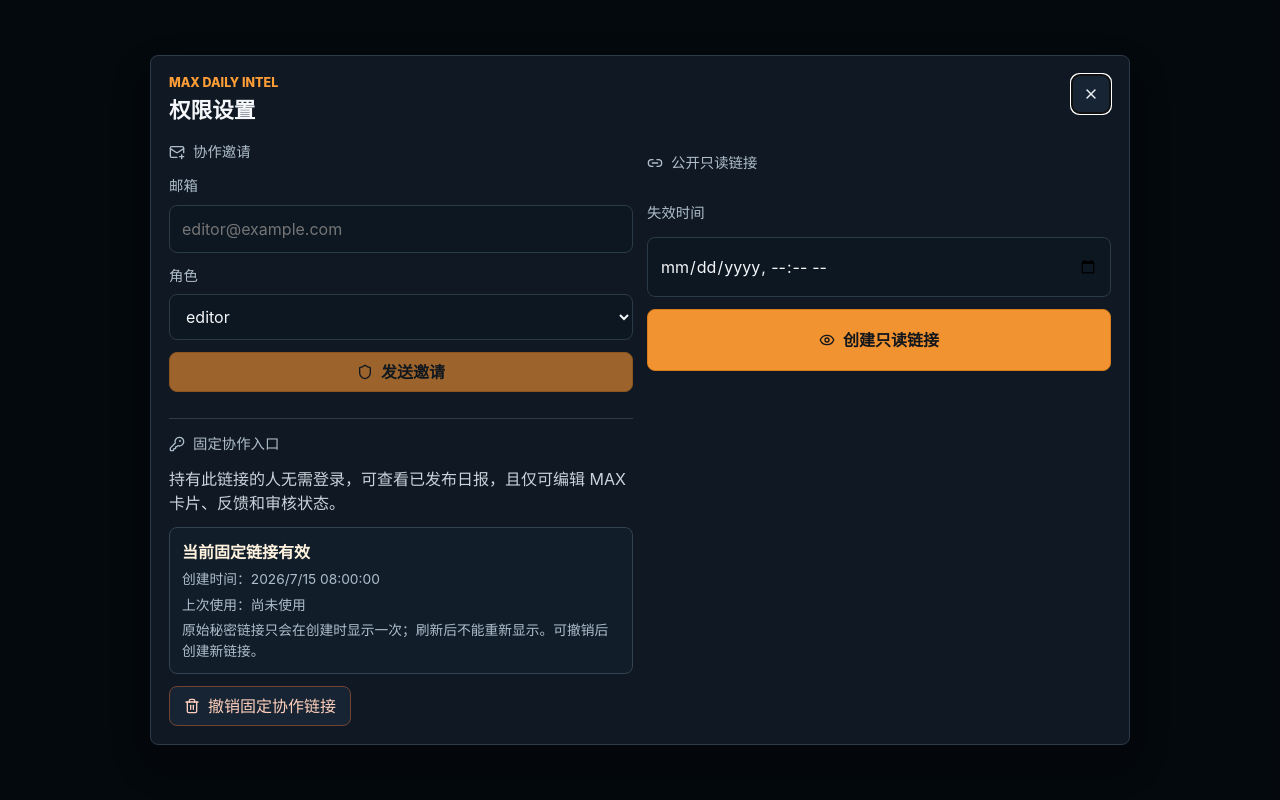
it: ShareDialog fixed collaboration link management › revokes the active link only after explicit confirmation
Click the button "撤销固定协作链接": [260, 706] box [169,686,351,726]
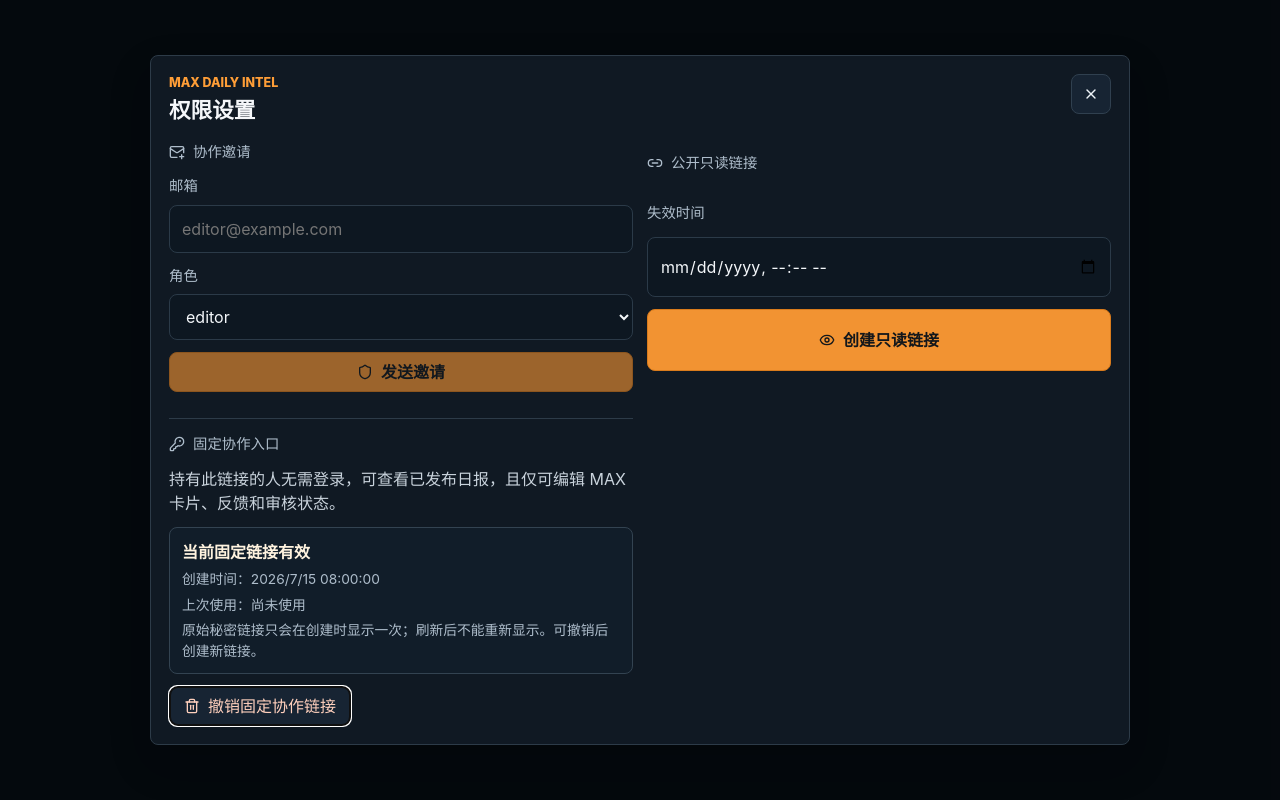
Click the button "撤销固定协作链接": [260, 706] box [169,686,351,726]
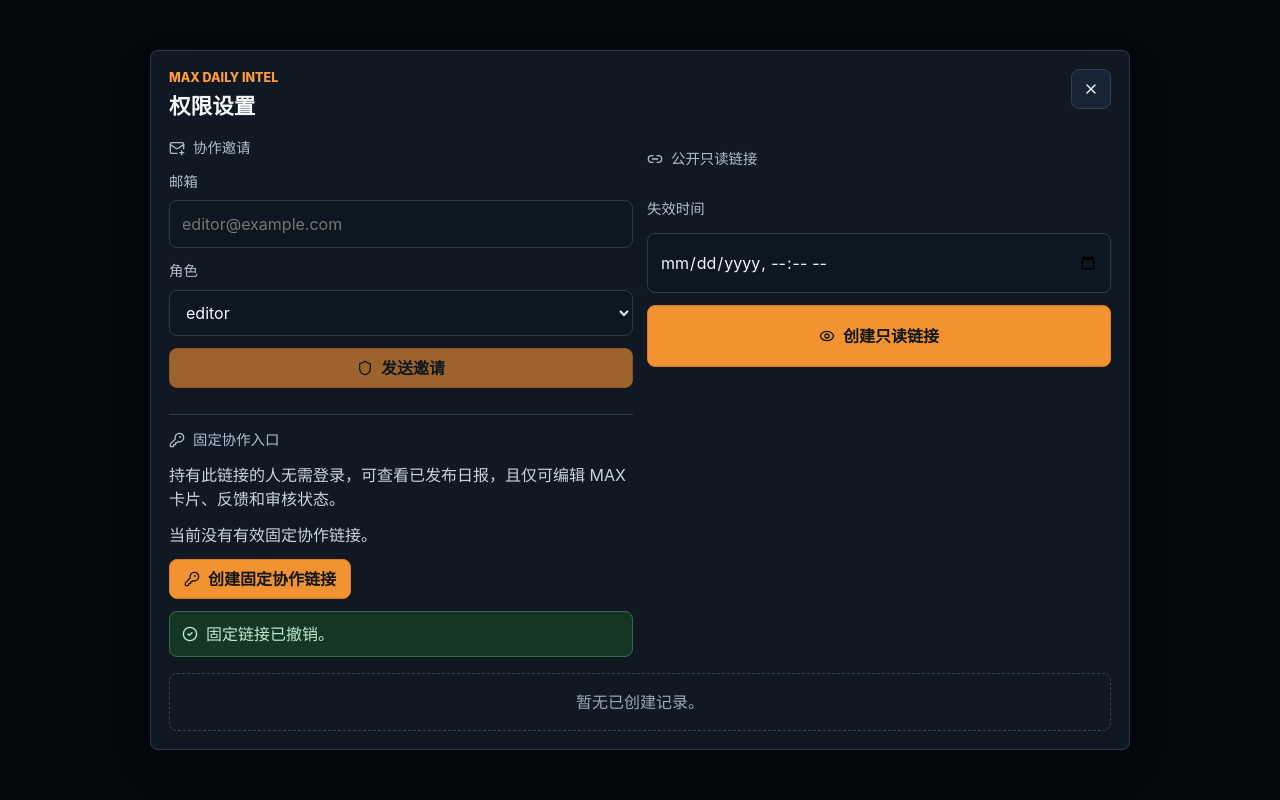
Result: the text "固定链接已撤销。" is shown at [169,611,633,657]
Result: the button "撤销固定协作链接" is gone
